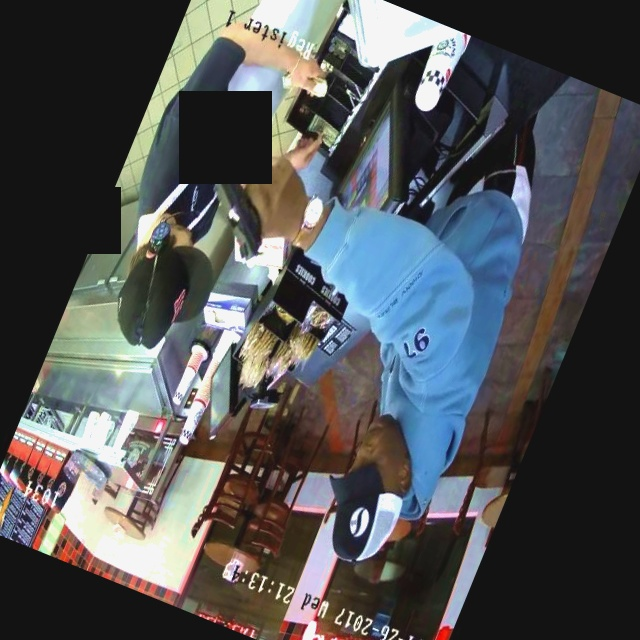gun: (167, 128, 310, 279)
